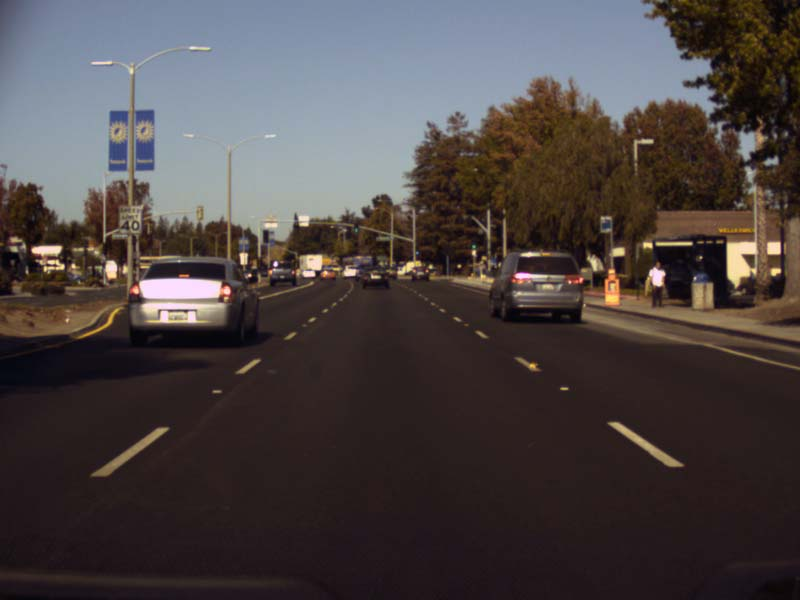Green: (353, 222, 358, 233), (470, 242, 477, 248), (415, 246, 418, 255)
Yellow: (293, 222, 298, 228)
